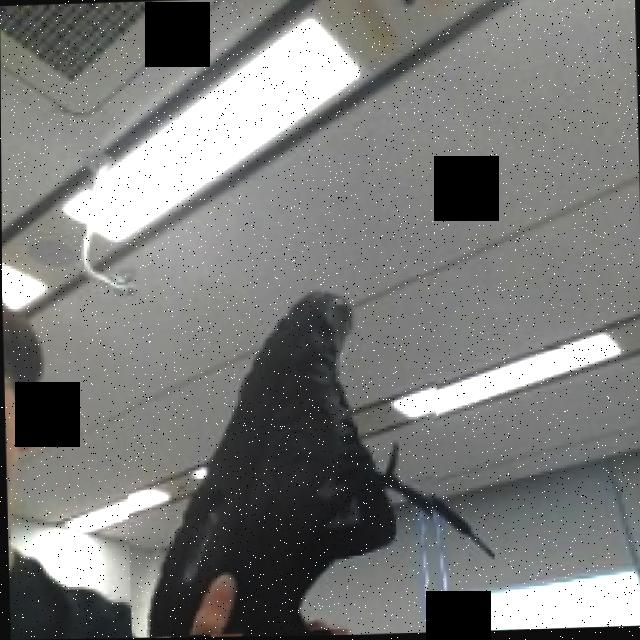shoe: (122, 275, 448, 638)
